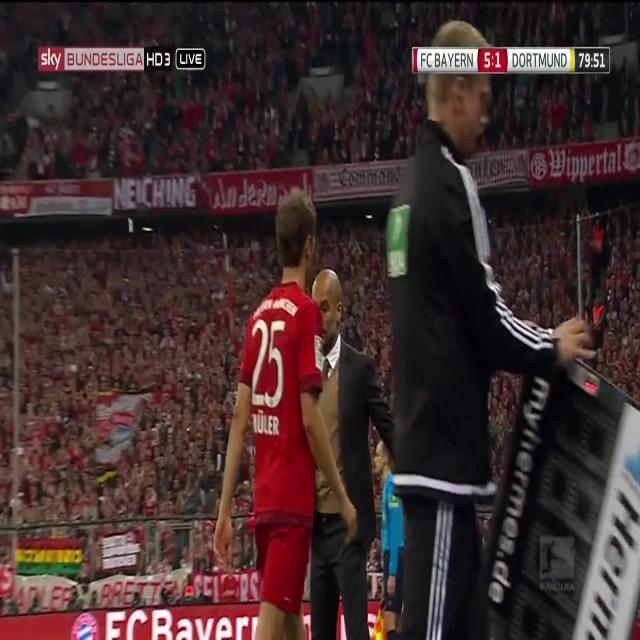Player: (209, 186, 361, 640)
